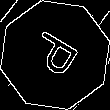P_SE: (24, 26, 86, 84)
